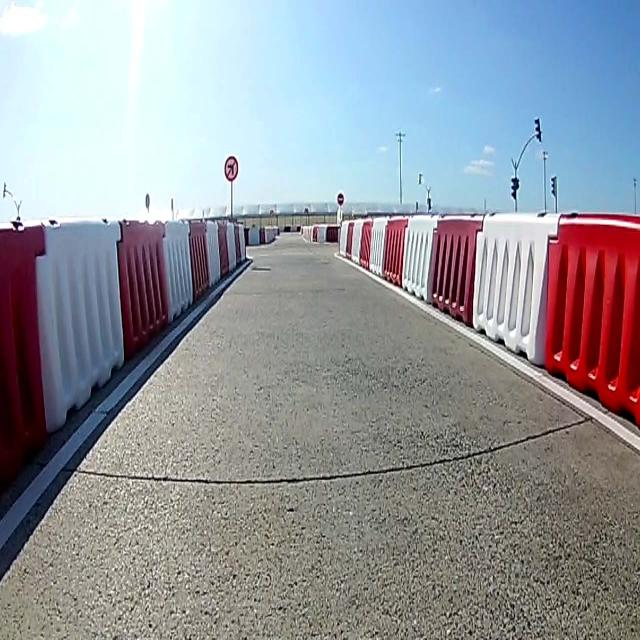girisyok: (337, 193, 344, 206)
soladonulmez: (224, 156, 238, 182)
